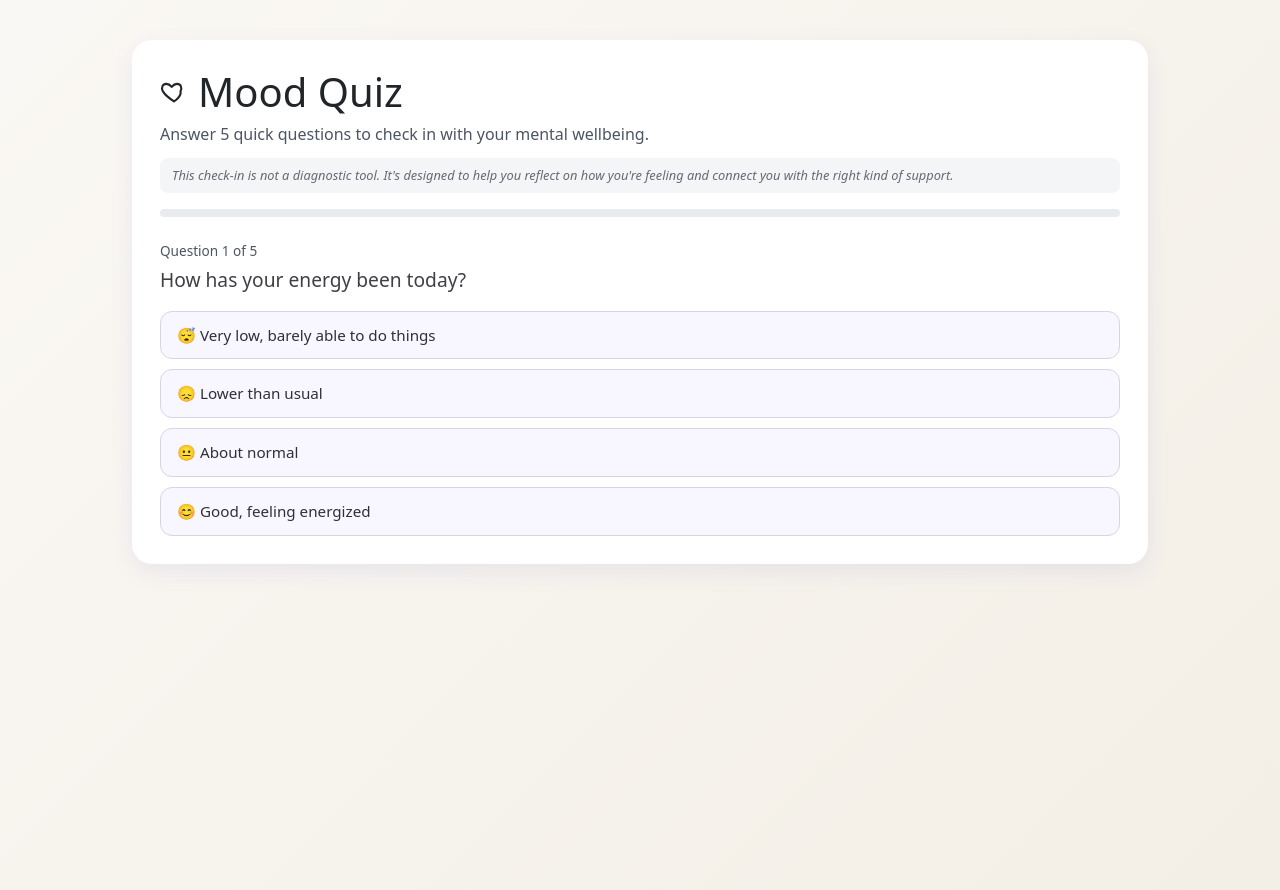
it: MoodChecker quiz completion › shows the struggling-tier result at the low-score boundary
Step 1. Click the button "😴 Very low, barely able to do things" → (306, 335), box [160,311,1120,359]
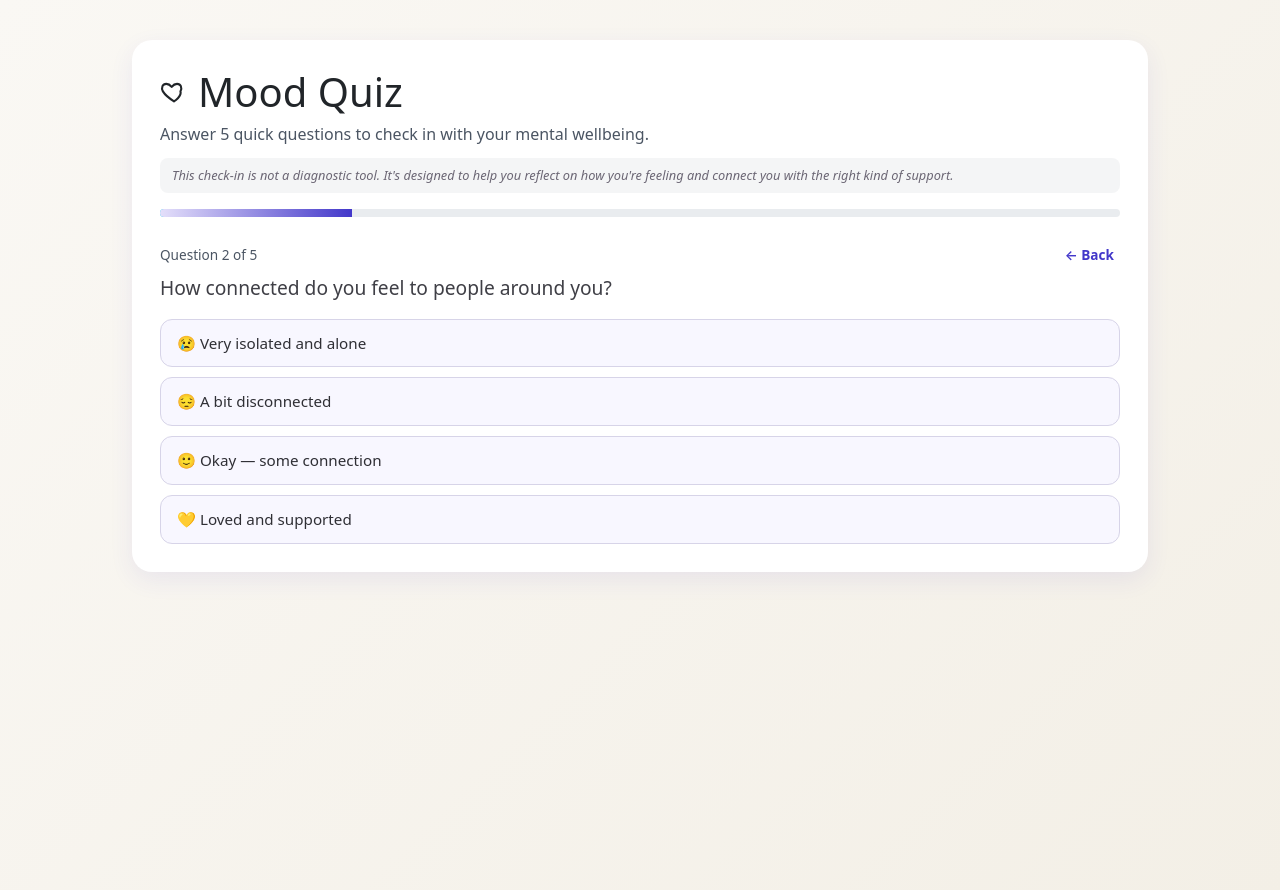
Step 2. Click the button "😢 Very isolated and alone" → (272, 343), box [160,319,1120,367]
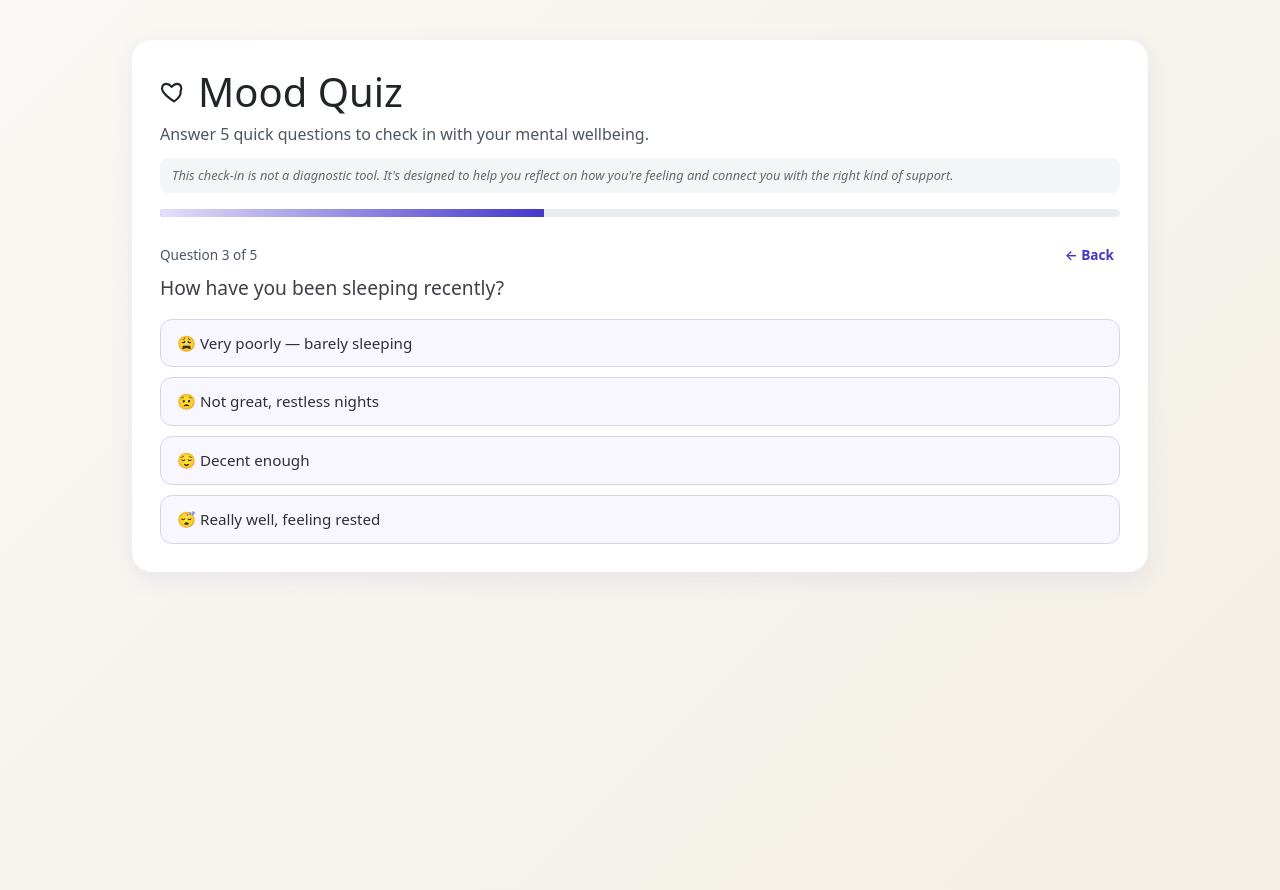
Step 3. Click the button "😩 Very poorly — barely sleeping" → (295, 343), box [160,319,1120,367]
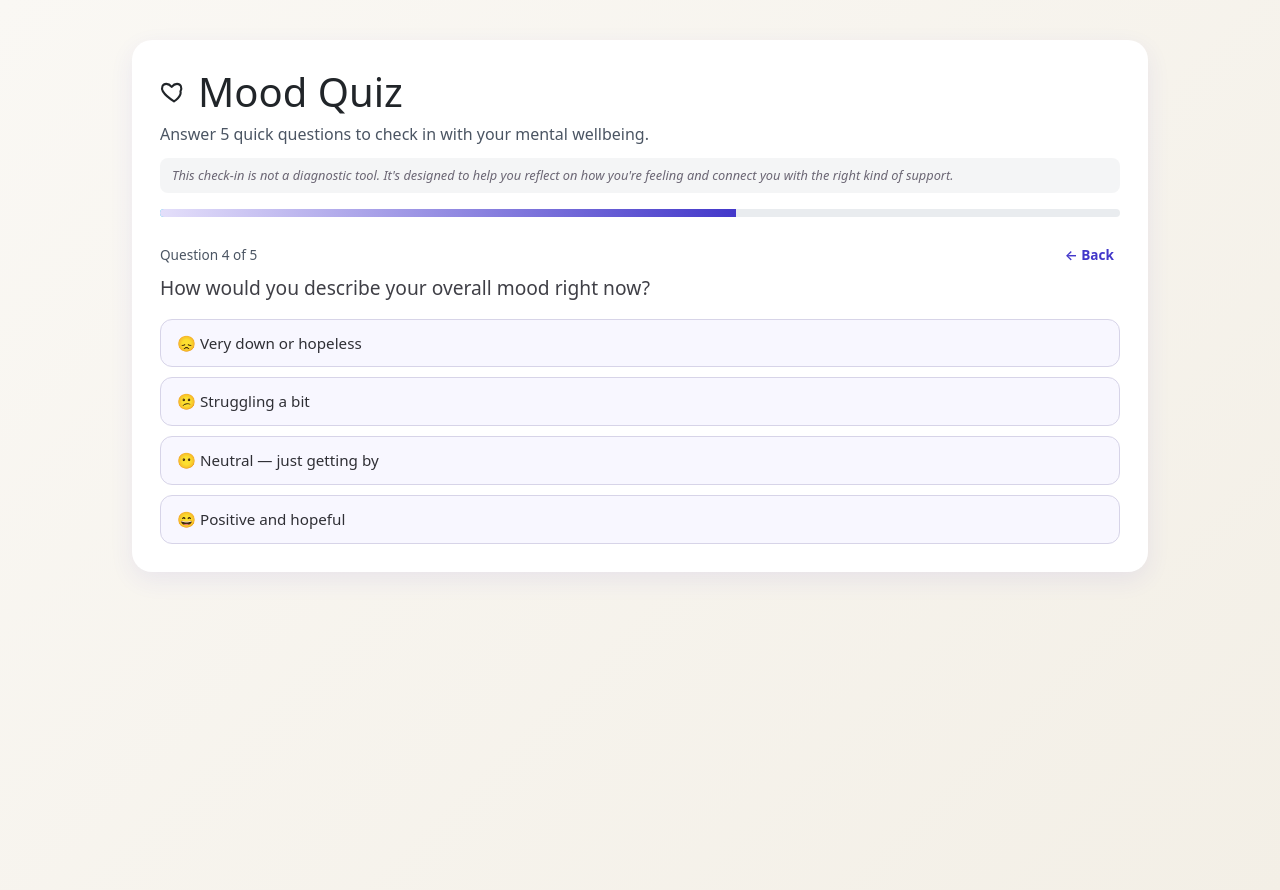
Step 4. Click the button "😕 Struggling a bit" → (243, 401), box [160,377,1120,426]
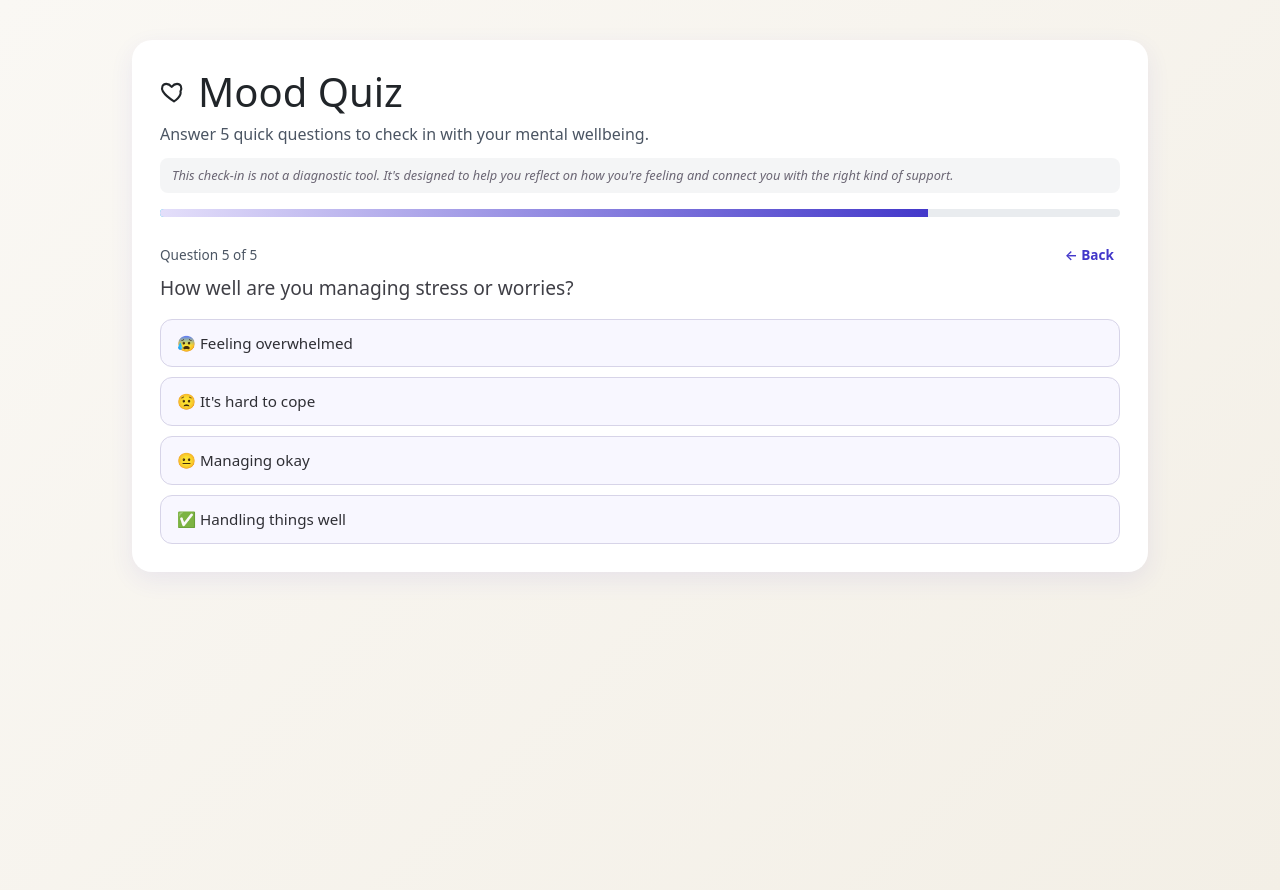
Step 5. Click the button "😟 It's hard to cope" → (246, 401), box [160,377,1120,426]
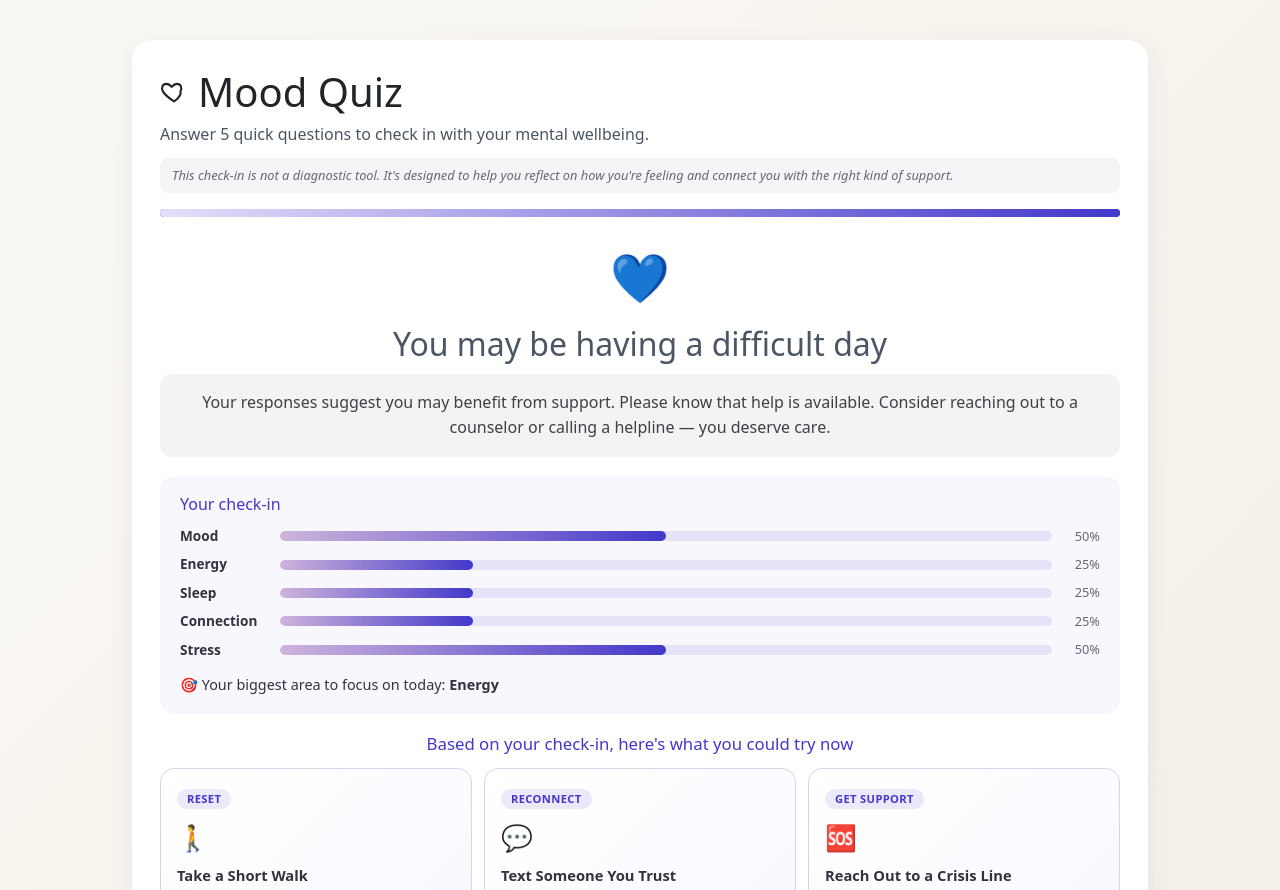
Now the heading "You may be having a difficult day" is shown, box [393,322,887,365]
